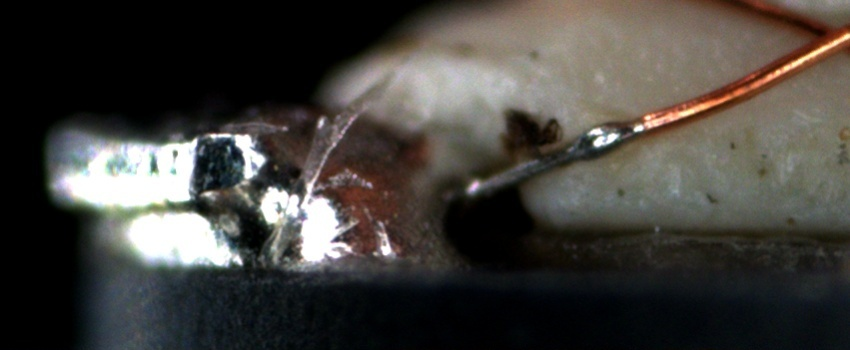CL: (784, 6, 847, 64)
TS: (459, 119, 646, 198)
TTCW: (457, 98, 693, 198)
